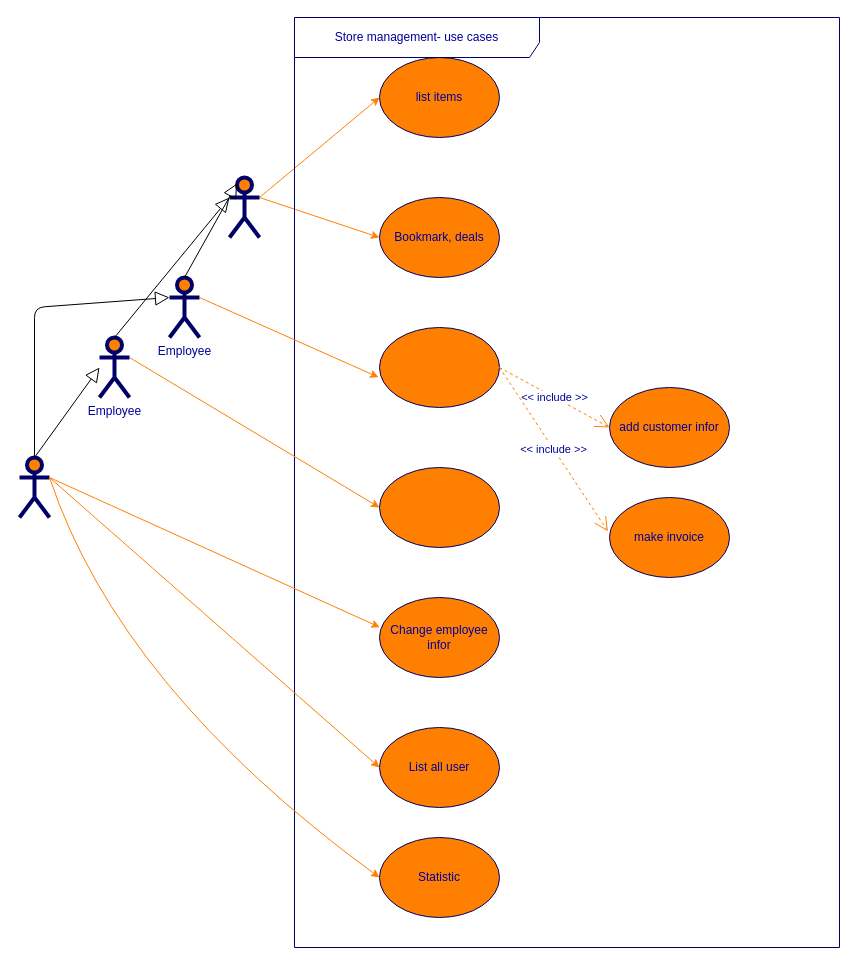
Image size: 857x965. Some labels were removed from this diagram. The shapes that lost their labels are listed below. From the top down, each one's centre as x and y in pixels, then its label:
pixel 244 207: Customer
pixel 439 367: sell goods
pixel 34 487: admin
pixel 439 507: change items infor
